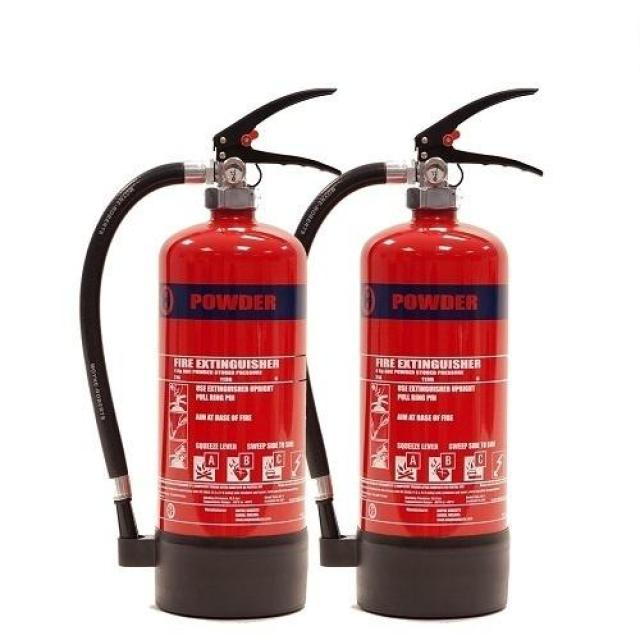fire_extinguisher: (271, 85, 547, 622), (72, 82, 344, 622)
